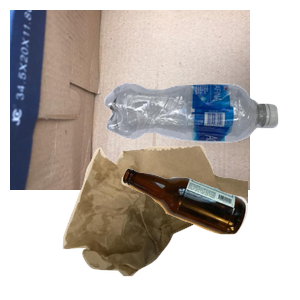cardboard: (10, 10, 250, 190)
glass: (119, 166, 300, 300)
plastic: (102, 81, 300, 216)
trash: (60, 142, 300, 300)
